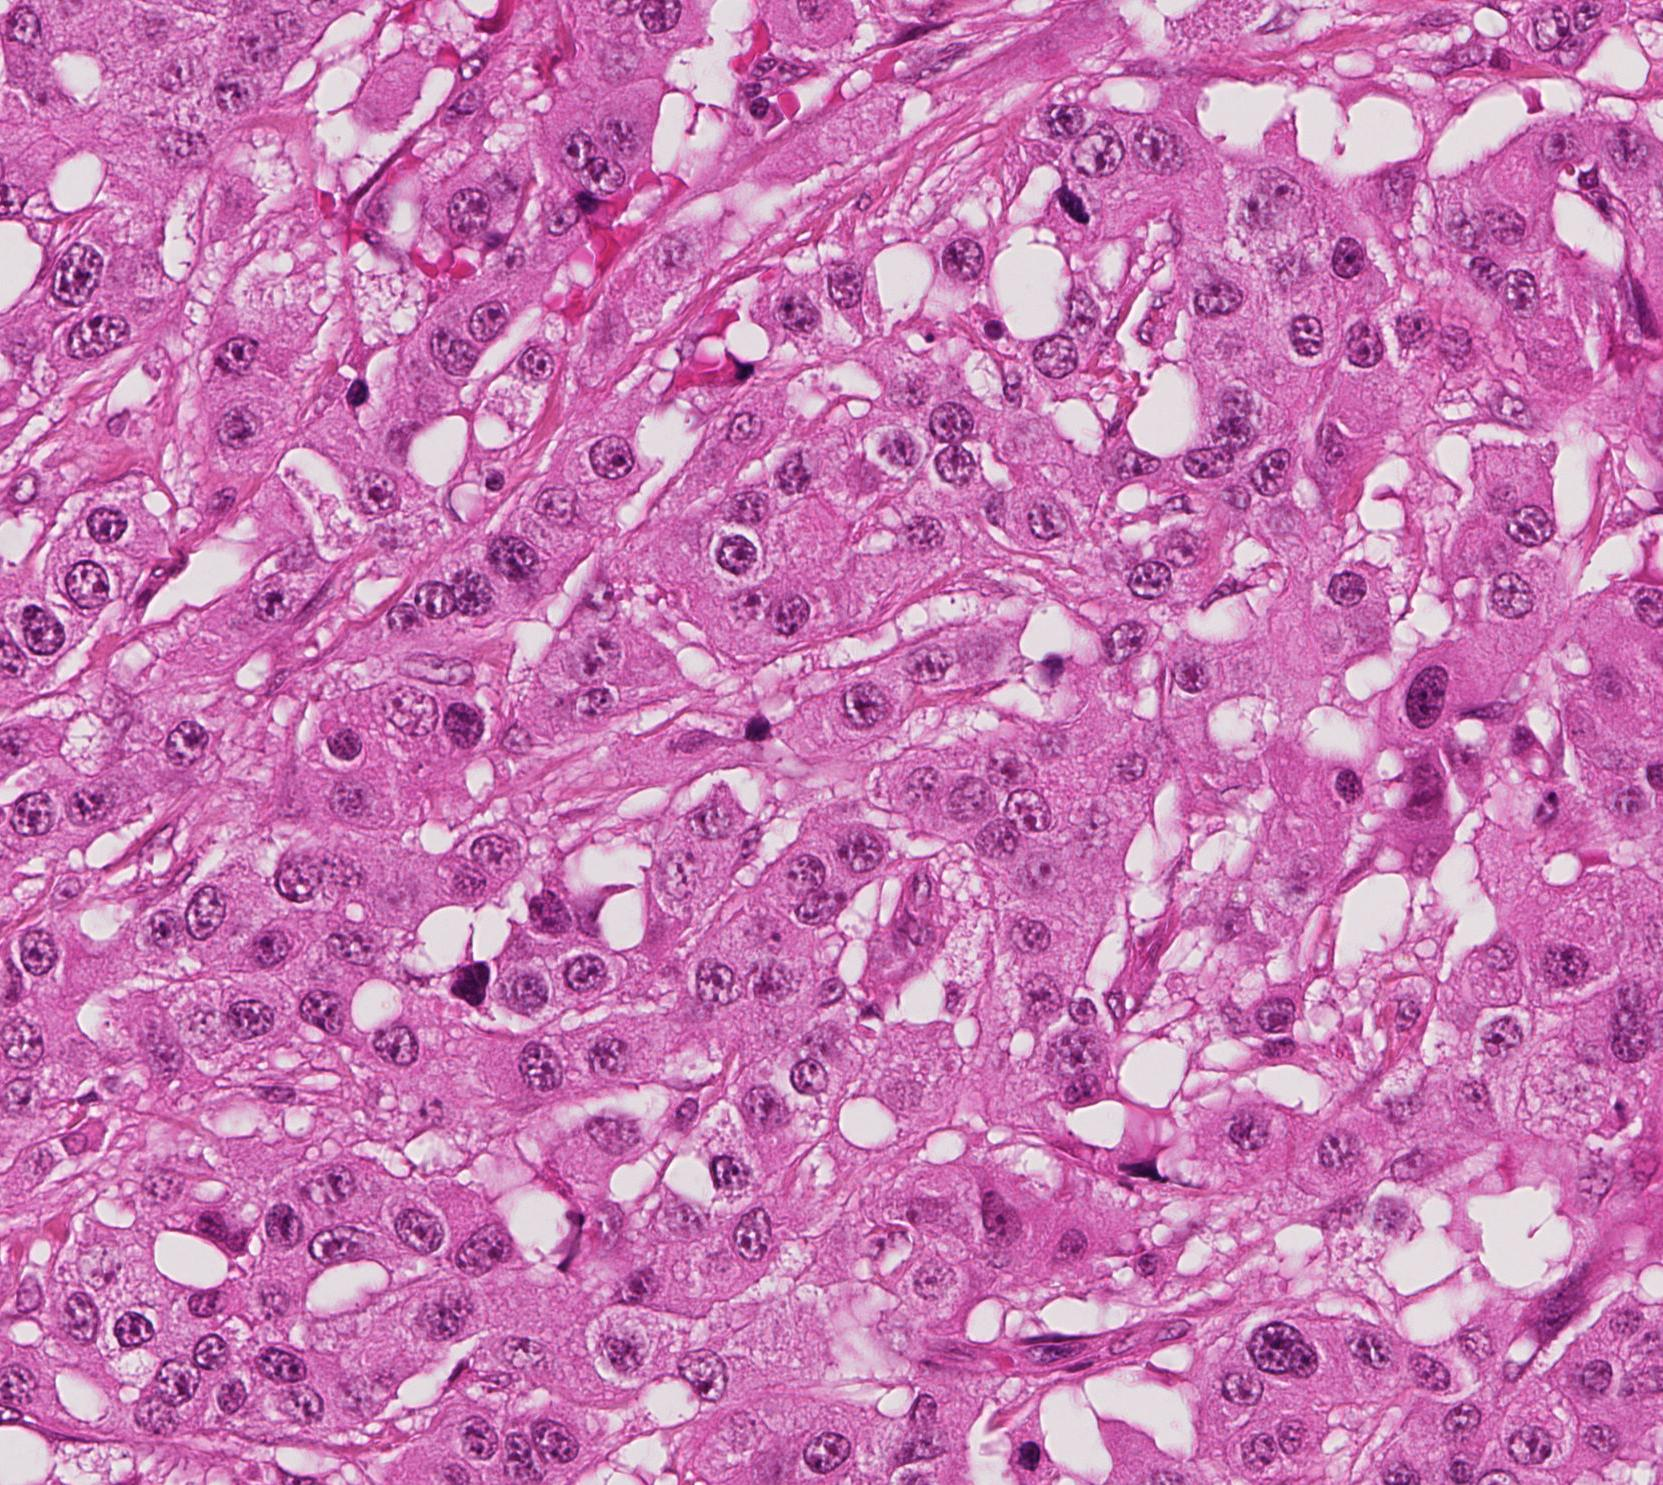mitosis: (1047, 168, 1105, 228)
